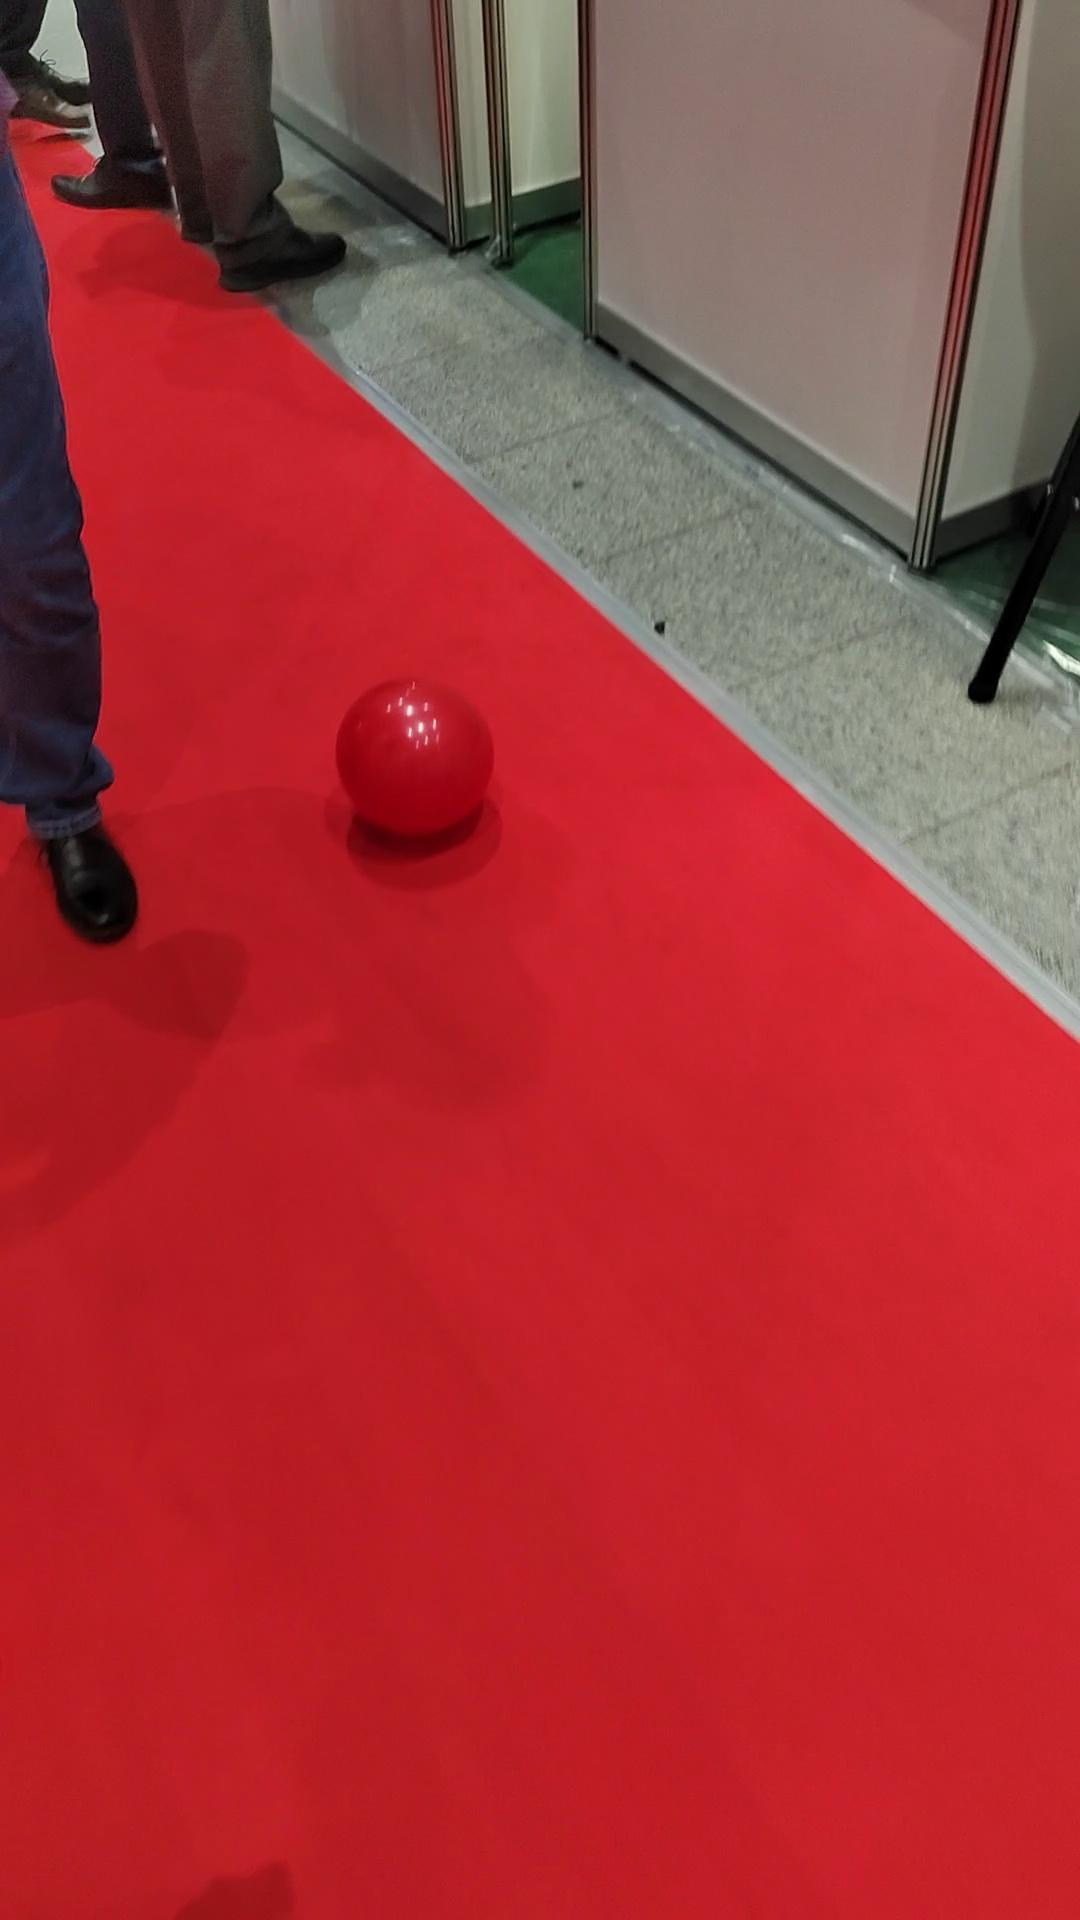red: (334, 678, 495, 839)
